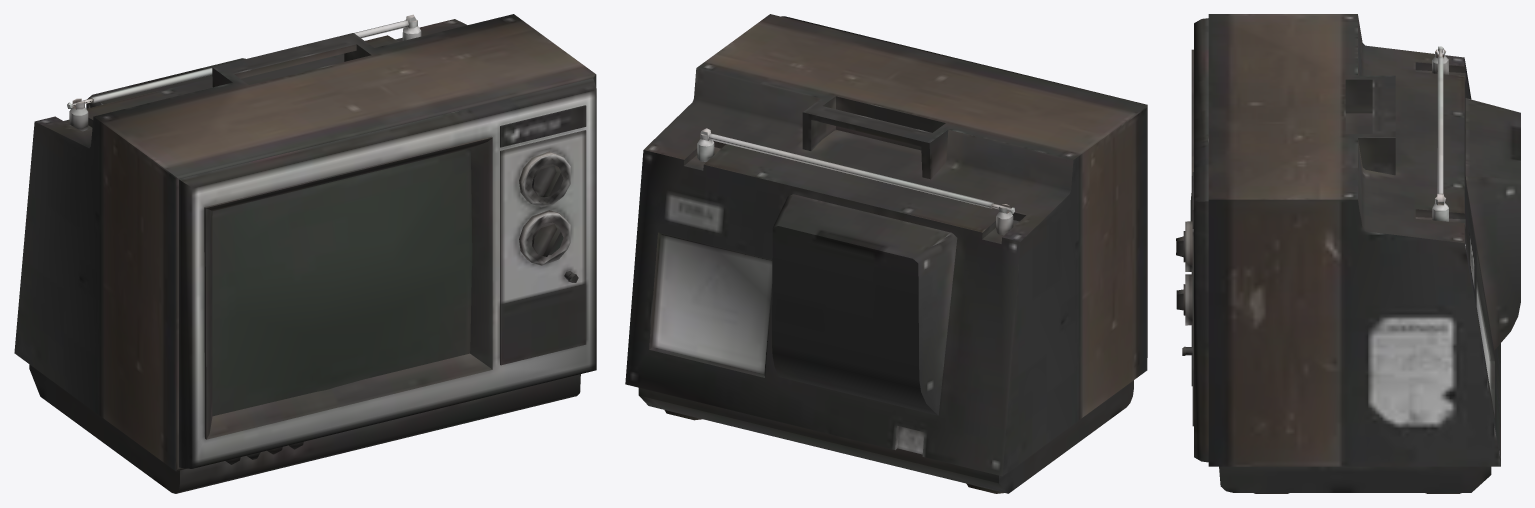
The picture shows the model from 3 angles, left to right: view 1: azimuth 30°, elevation 25°; view 2: azimuth 150°, elevation 25°; view 3: azimuth 270°, elevation 25°; orthographic projection. The views are drawn at different scales.
Visible parts, largest first — view 1: Television_01; view 2: Television_01; view 3: Television_01.
Part boxes in pixels (x1=…): Television_01: x1=14, y1=14, x2=596, y2=493; Television_01: x1=625, y1=14, x2=1147, y2=493; Television_01: x1=1176, y1=14, x2=1520, y2=493.
Bounding box in the file's own units: 0.6 × 0.4569 × 0.4708.
1 material, 1 textured.
